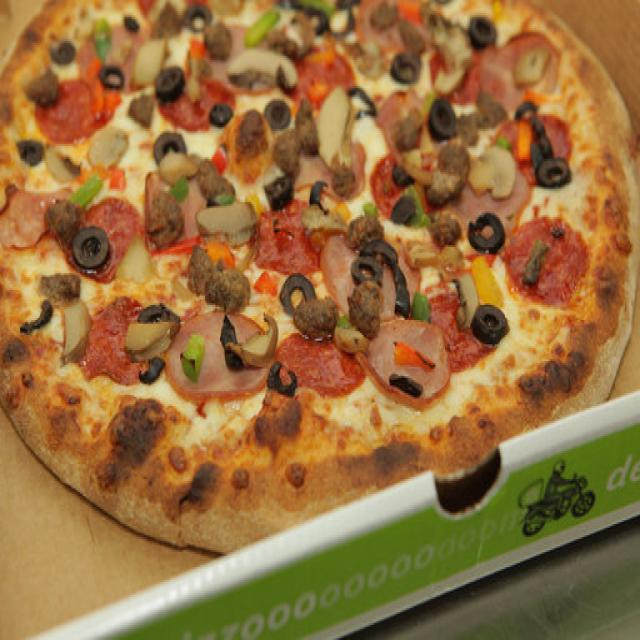Beef: (297, 302, 372, 356), (187, 250, 252, 312), (372, 7, 427, 52), (429, 146, 466, 202), (148, 192, 186, 243), (456, 103, 502, 136), (46, 201, 85, 239), (38, 274, 82, 303), (442, 147, 469, 191), (354, 283, 377, 332), (29, 75, 64, 107), (274, 134, 302, 173), (300, 98, 318, 156), (206, 26, 236, 60), (430, 218, 462, 248), (130, 95, 154, 128), (332, 174, 358, 198)
Green Pepper: (246, 8, 277, 46), (182, 332, 205, 377), (95, 22, 115, 58), (411, 296, 432, 324), (75, 178, 98, 203)
Mushrooms: (320, 92, 361, 169), (194, 199, 257, 247), (223, 320, 280, 367), (470, 144, 516, 200), (230, 56, 302, 86), (59, 298, 95, 354), (400, 144, 435, 193), (437, 18, 471, 68), (129, 323, 180, 356), (87, 129, 131, 167), (410, 248, 462, 278), (453, 276, 478, 326), (46, 146, 80, 182), (516, 46, 546, 84), (136, 41, 162, 84), (158, 153, 197, 180)
Olives: (366, 239, 409, 317), (72, 224, 111, 267), (472, 303, 508, 346), (468, 214, 504, 254), (221, 317, 240, 372), (26, 300, 53, 338), (266, 363, 296, 393), (388, 54, 420, 82), (429, 104, 455, 137), (468, 13, 494, 46), (154, 71, 183, 100), (351, 255, 379, 285), (266, 172, 296, 200), (152, 131, 192, 151), (284, 278, 311, 306), (187, 6, 214, 34), (138, 301, 178, 318), (534, 125, 553, 160), (535, 162, 567, 182), (391, 199, 414, 226), (306, 8, 329, 33), (142, 360, 164, 385), (268, 102, 290, 127), (51, 44, 78, 64), (208, 106, 234, 124), (104, 67, 125, 88), (516, 94, 536, 115), (314, 181, 325, 206)
Pepperoni: (511, 217, 575, 300), (276, 337, 364, 392), (88, 300, 144, 381), (101, 196, 141, 282), (37, 77, 90, 140), (290, 51, 352, 104), (255, 210, 309, 268), (436, 300, 481, 362), (547, 114, 578, 170), (175, 102, 211, 128)
Pizza: (0, 0, 634, 556)
